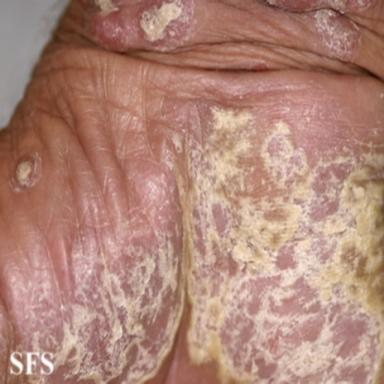Psoriasis: (30, 100, 384, 384), (268, 0, 372, 62), (139, 1, 197, 53), (79, 1, 125, 51), (11, 153, 41, 191)
